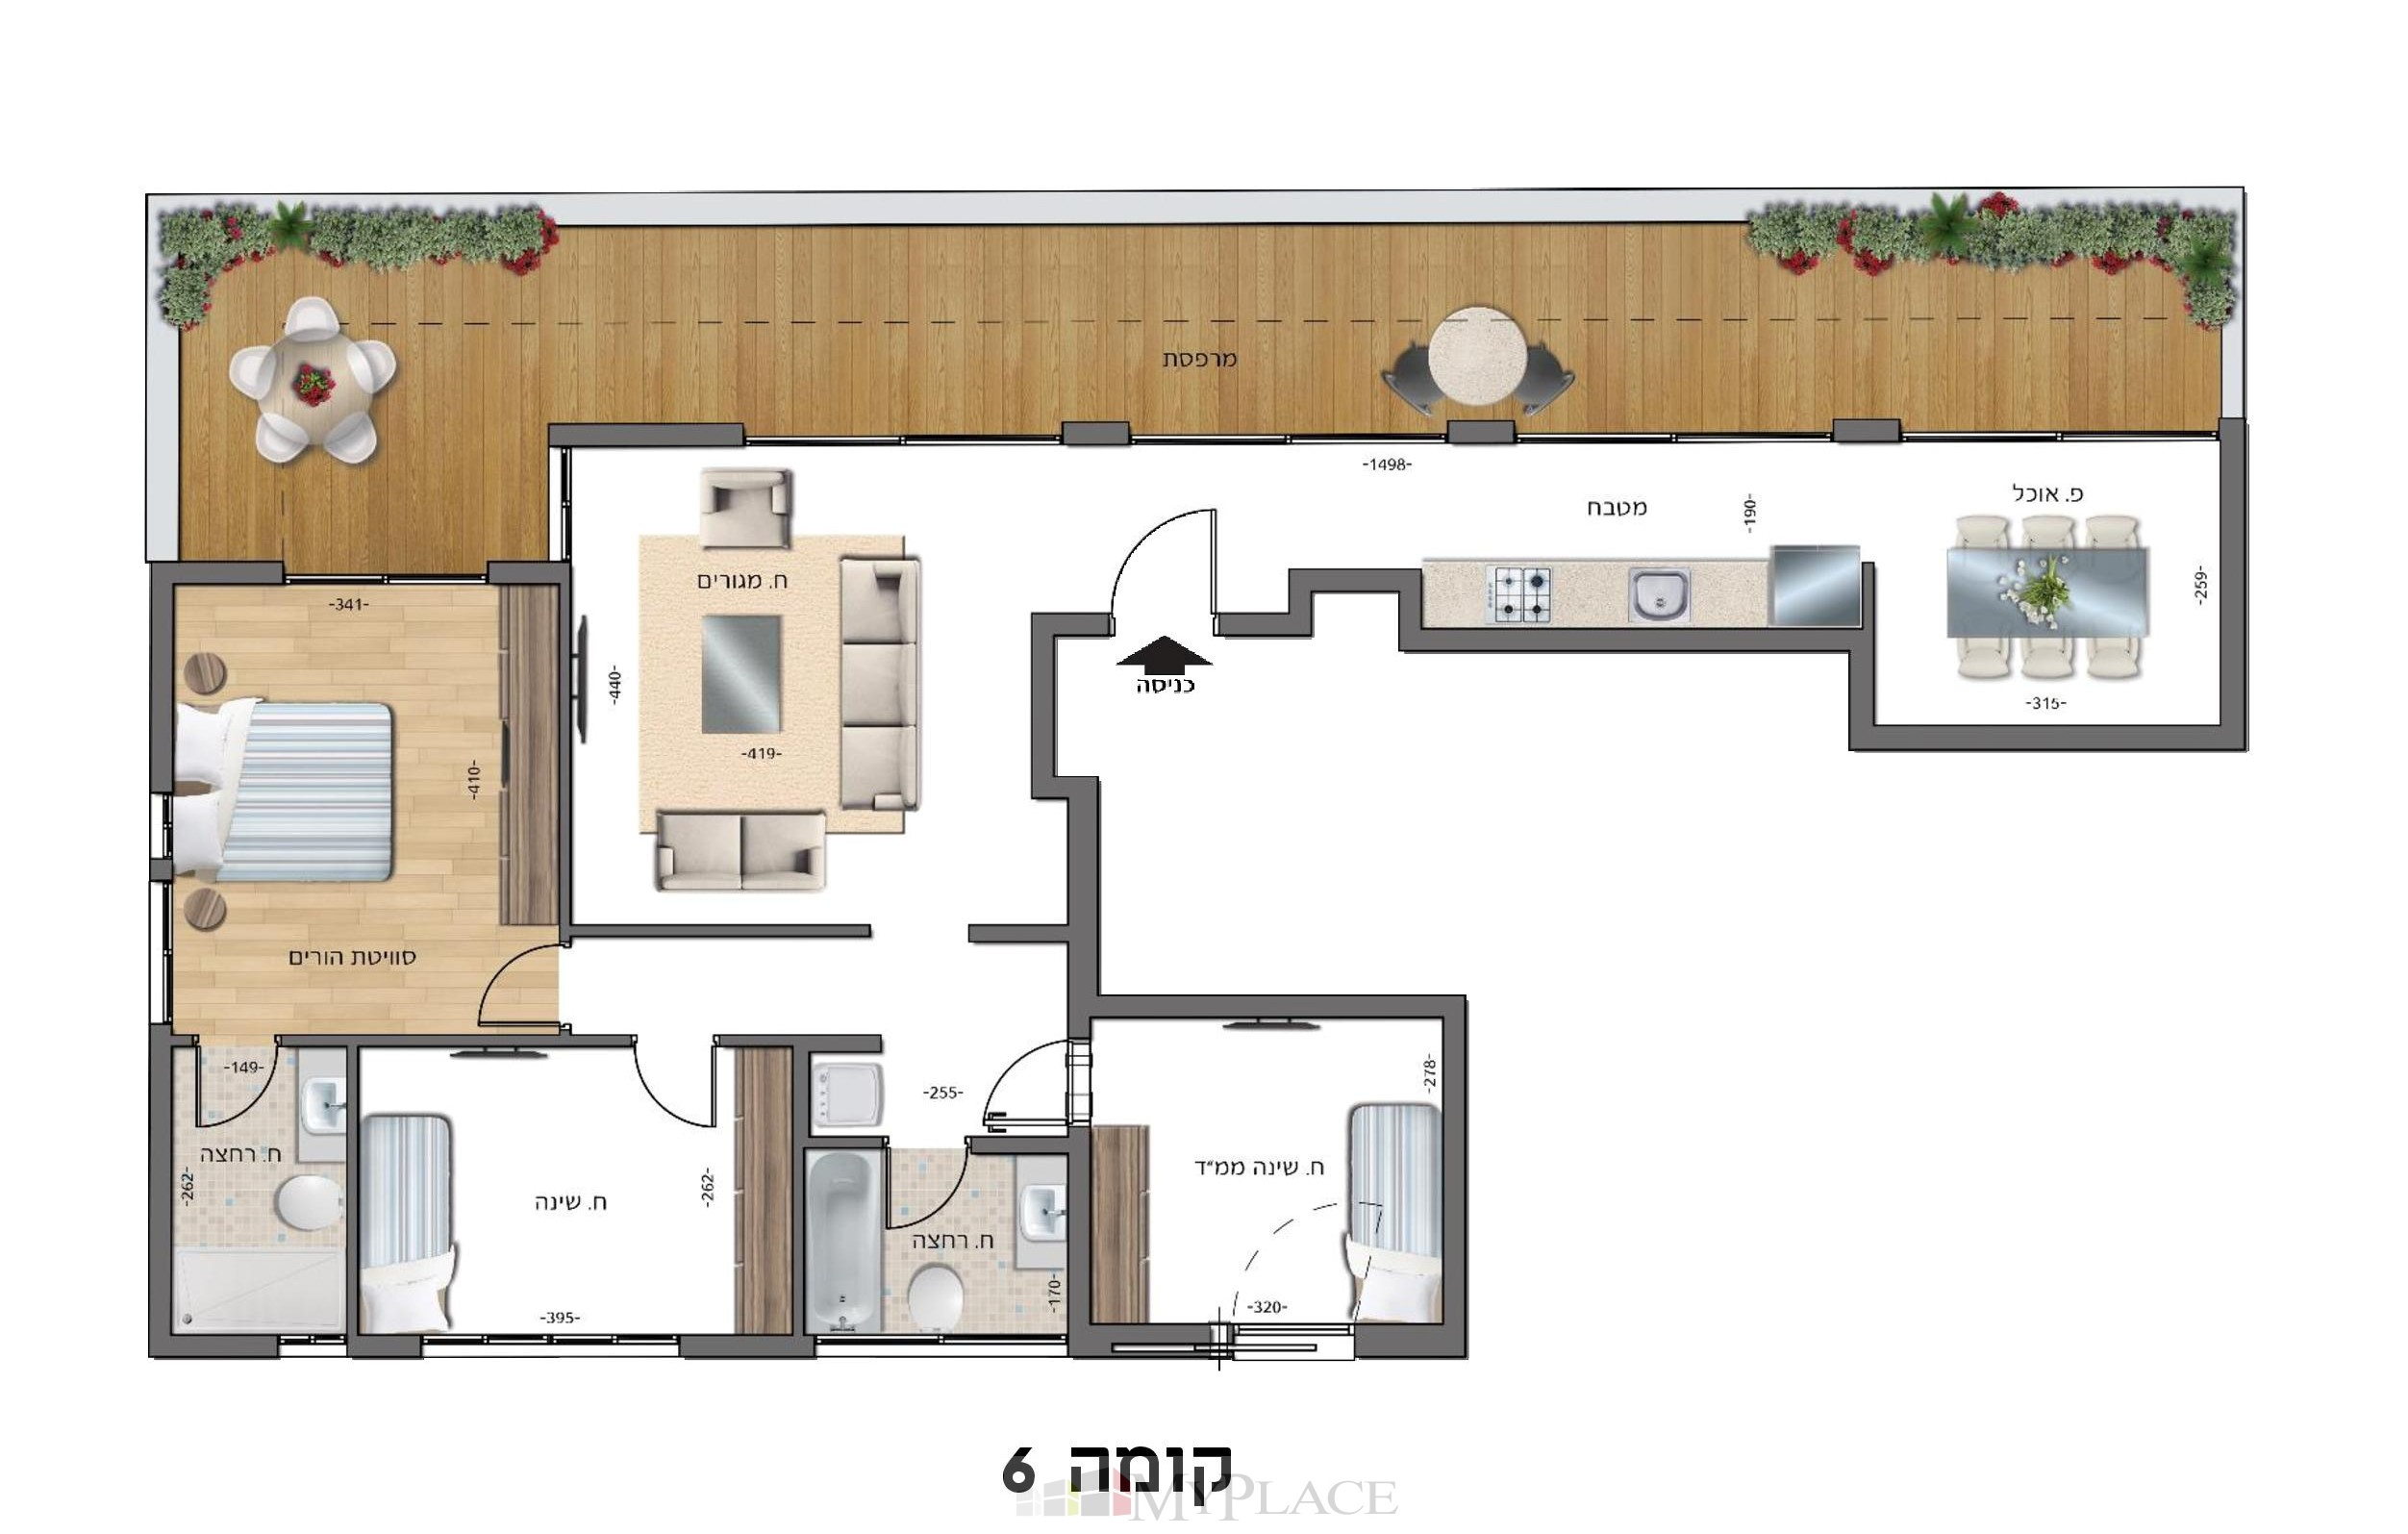door: (1086, 484, 1232, 600), (983, 1041, 1069, 1132), (635, 1051, 720, 1132), (888, 1160, 978, 1229), (186, 1062, 270, 1132), (460, 964, 546, 1032)
wall: (1097, 992, 1466, 1020), (1401, 628, 1876, 649), (2218, 419, 2247, 730), (1873, 727, 2243, 748), (149, 1021, 168, 1366), (1071, 799, 1095, 1014), (153, 562, 176, 793), (558, 583, 570, 948), (346, 1044, 360, 1350), (572, 925, 869, 939), (1848, 649, 1871, 749), (490, 558, 569, 584)
window: (818, 1336, 1065, 1351), (147, 879, 170, 1021), (1673, 434, 1836, 453), (418, 1332, 486, 1358), (906, 435, 1067, 446), (2059, 432, 2218, 442), (486, 1334, 549, 1358), (390, 572, 491, 586), (553, 1336, 614, 1358), (748, 437, 906, 446), (151, 793, 172, 857), (614, 1337, 679, 1357), (283, 574, 388, 583)
